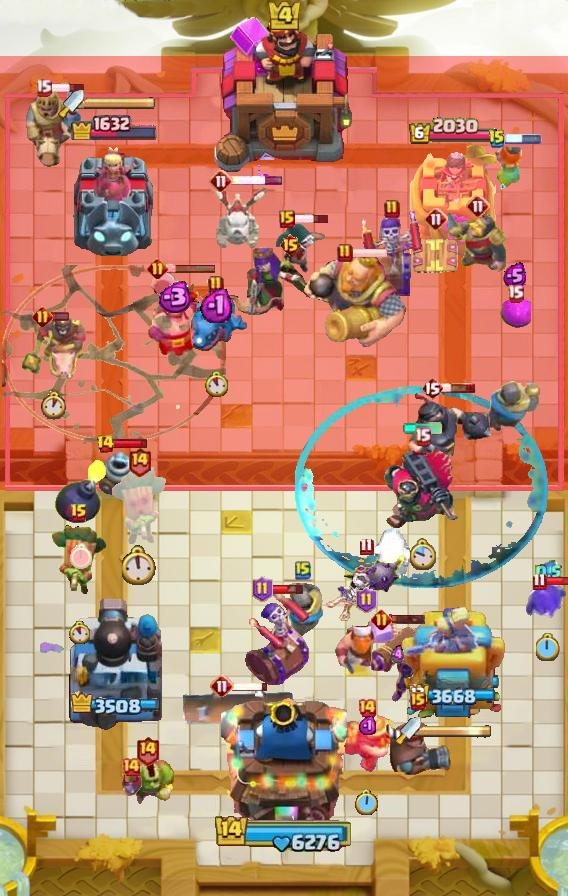bandit: (273, 222, 325, 274)
bar: (231, 175, 284, 186), (165, 263, 217, 274), (389, 613, 426, 625), (351, 247, 388, 259), (293, 213, 330, 225), (49, 82, 86, 94), (440, 382, 476, 394), (270, 583, 305, 595), (232, 681, 269, 692), (112, 438, 149, 449), (504, 134, 542, 144), (544, 576, 568, 586), (51, 311, 70, 322)
bar-level: (135, 735, 160, 766), (127, 446, 152, 477), (210, 674, 234, 698), (424, 207, 448, 231), (466, 194, 490, 218), (209, 169, 233, 193), (279, 233, 302, 257), (356, 587, 377, 613), (252, 576, 273, 602), (421, 376, 443, 400), (371, 609, 392, 630), (32, 306, 53, 327), (147, 258, 168, 279), (121, 757, 141, 777), (357, 698, 377, 718), (96, 434, 115, 454), (70, 503, 88, 523), (488, 129, 506, 149), (414, 427, 431, 446), (507, 284, 524, 303), (35, 78, 52, 97), (295, 560, 311, 580), (208, 275, 224, 295), (337, 243, 353, 263), (384, 199, 400, 219), (410, 692, 426, 710), (279, 210, 295, 228), (532, 572, 547, 591), (359, 537, 374, 556)
bat: (119, 770, 143, 798)
bomb: (54, 457, 108, 525)
bomber-evolution: (324, 553, 408, 623)
cannoneer-tower: (66, 595, 162, 731)
clock: (122, 545, 157, 585), (408, 538, 436, 572), (40, 391, 68, 420), (355, 789, 379, 817), (536, 633, 560, 661), (69, 543, 93, 570), (205, 371, 228, 397), (69, 621, 90, 644)
dagger-duchess-tower: (399, 607, 507, 731), (70, 142, 158, 256)
dagger-duchess-tower-bar: (421, 724, 493, 738), (84, 97, 156, 111)
dart-goblin: (110, 467, 168, 547), (50, 520, 108, 598)
electro-dragon: (182, 294, 250, 354)
electro-spirit: (526, 581, 568, 621)
elixir: (154, 281, 193, 313), (200, 286, 232, 323), (503, 262, 527, 290), (535, 560, 562, 584), (359, 715, 376, 735), (391, 645, 404, 665)
elixir-golem-small: (499, 298, 531, 328)
executioner: (145, 270, 201, 358)
firecracker-evolution: (367, 619, 427, 705)
goblin-brawler: (117, 754, 177, 808)
hunter: (383, 715, 453, 777)
ice-spirit: (370, 528, 412, 576)
king-tower: (211, 7, 357, 181), (221, 690, 347, 826)
king-tower-bar: (214, 813, 354, 853)
knight: (448, 213, 508, 273), (478, 378, 542, 434), (284, 583, 323, 641)
lumberjack: (334, 611, 398, 675)
miner: (336, 709, 398, 775)
queen-tower: (410, 145, 496, 256)
tesla: (411, 236, 461, 276)
the-log: (179, 686, 301, 730)
tower-bar: (408, 117, 499, 146), (70, 112, 159, 140), (68, 691, 160, 717), (409, 684, 498, 707)
valkyrie: (489, 141, 527, 193)
zappy: (92, 444, 140, 498)
